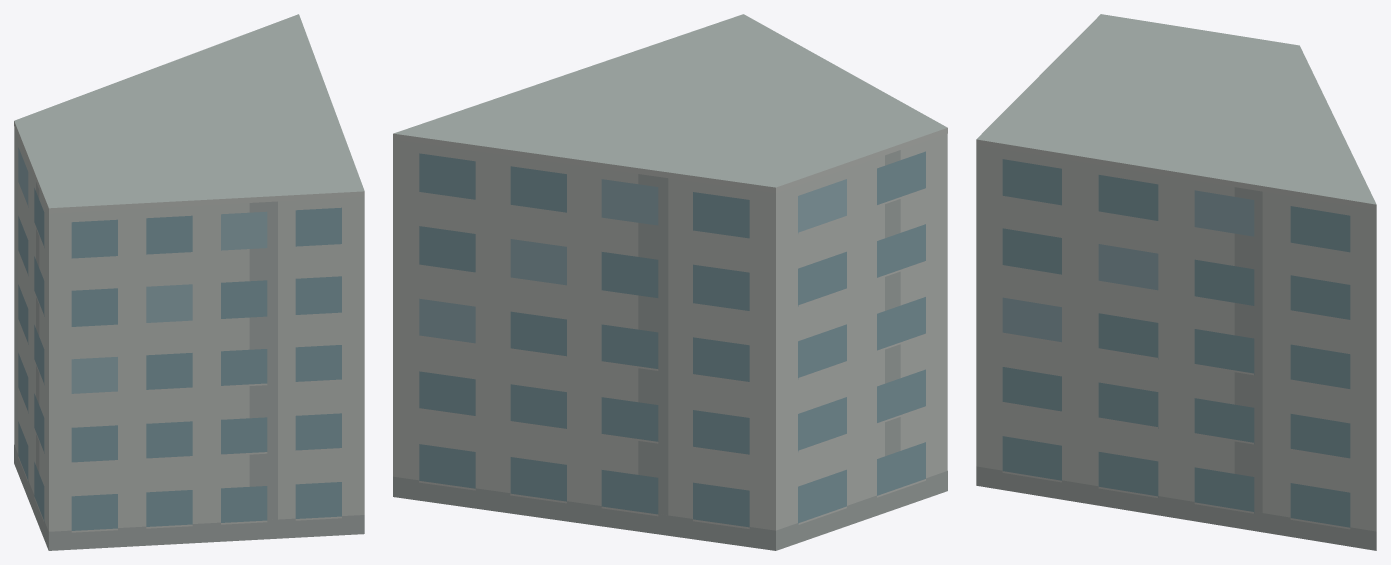
The model's file is residential-8ec6db3a-7dbe-4081-9c76-2097811b4fb7.glb.
3 views of the same model, side by side, from view 1: azimuth 30°, elevation 25°; view 2: azimuth 150°, elevation 25°; view 3: azimuth 270°, elevation 25° (orthographic). The views are drawn at different scales.
Parts seen in each view (by area): view 1: residential-8ec6db3a-7dbe-4081-9c76-2097811b4fb7.tmp; view 2: residential-8ec6db3a-7dbe-4081-9c76-2097811b4fb7.tmp; view 3: residential-8ec6db3a-7dbe-4081-9c76-2097811b4fb7.tmp.
Part boxes in pixels (left/top/right/bottom): residential-8ec6db3a-7dbe-4081-9c76-2097811b4fb7.tmp: left=14, top=14, right=364, bottom=550; residential-8ec6db3a-7dbe-4081-9c76-2097811b4fb7.tmp: left=393, top=14, right=947, bottom=550; residential-8ec6db3a-7dbe-4081-9c76-2097811b4fb7.tmp: left=976, top=14, right=1376, bottom=550.
Bounding box in the file's own units: 18.02 × 15.25 × 16.
